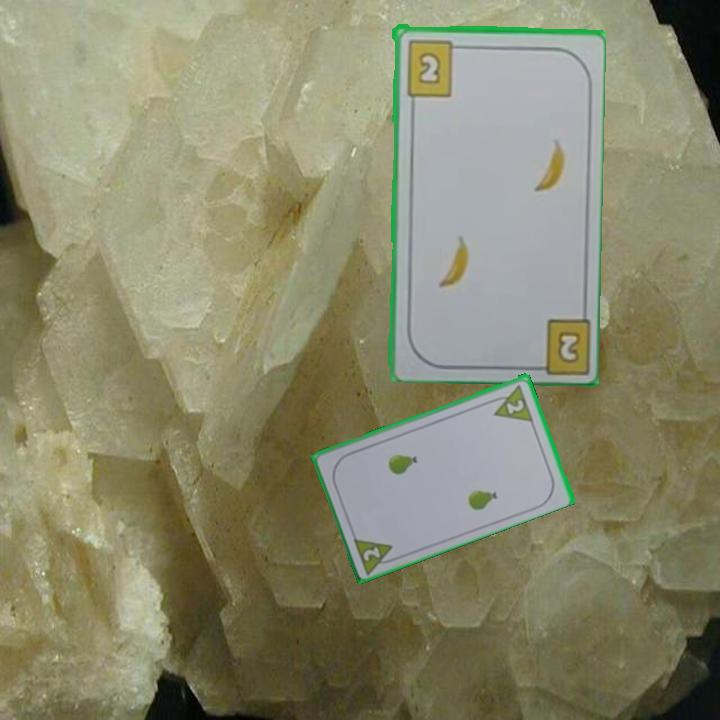2b: (402, 36, 465, 98), (554, 327, 583, 366)
2p: (350, 533, 401, 576), (503, 395, 527, 417)
